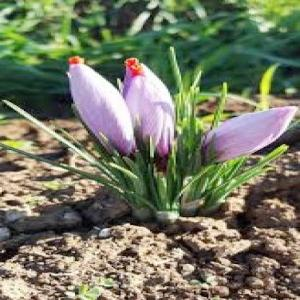Saffron: (68, 56, 138, 160), (193, 106, 298, 171), (124, 57, 176, 164)
